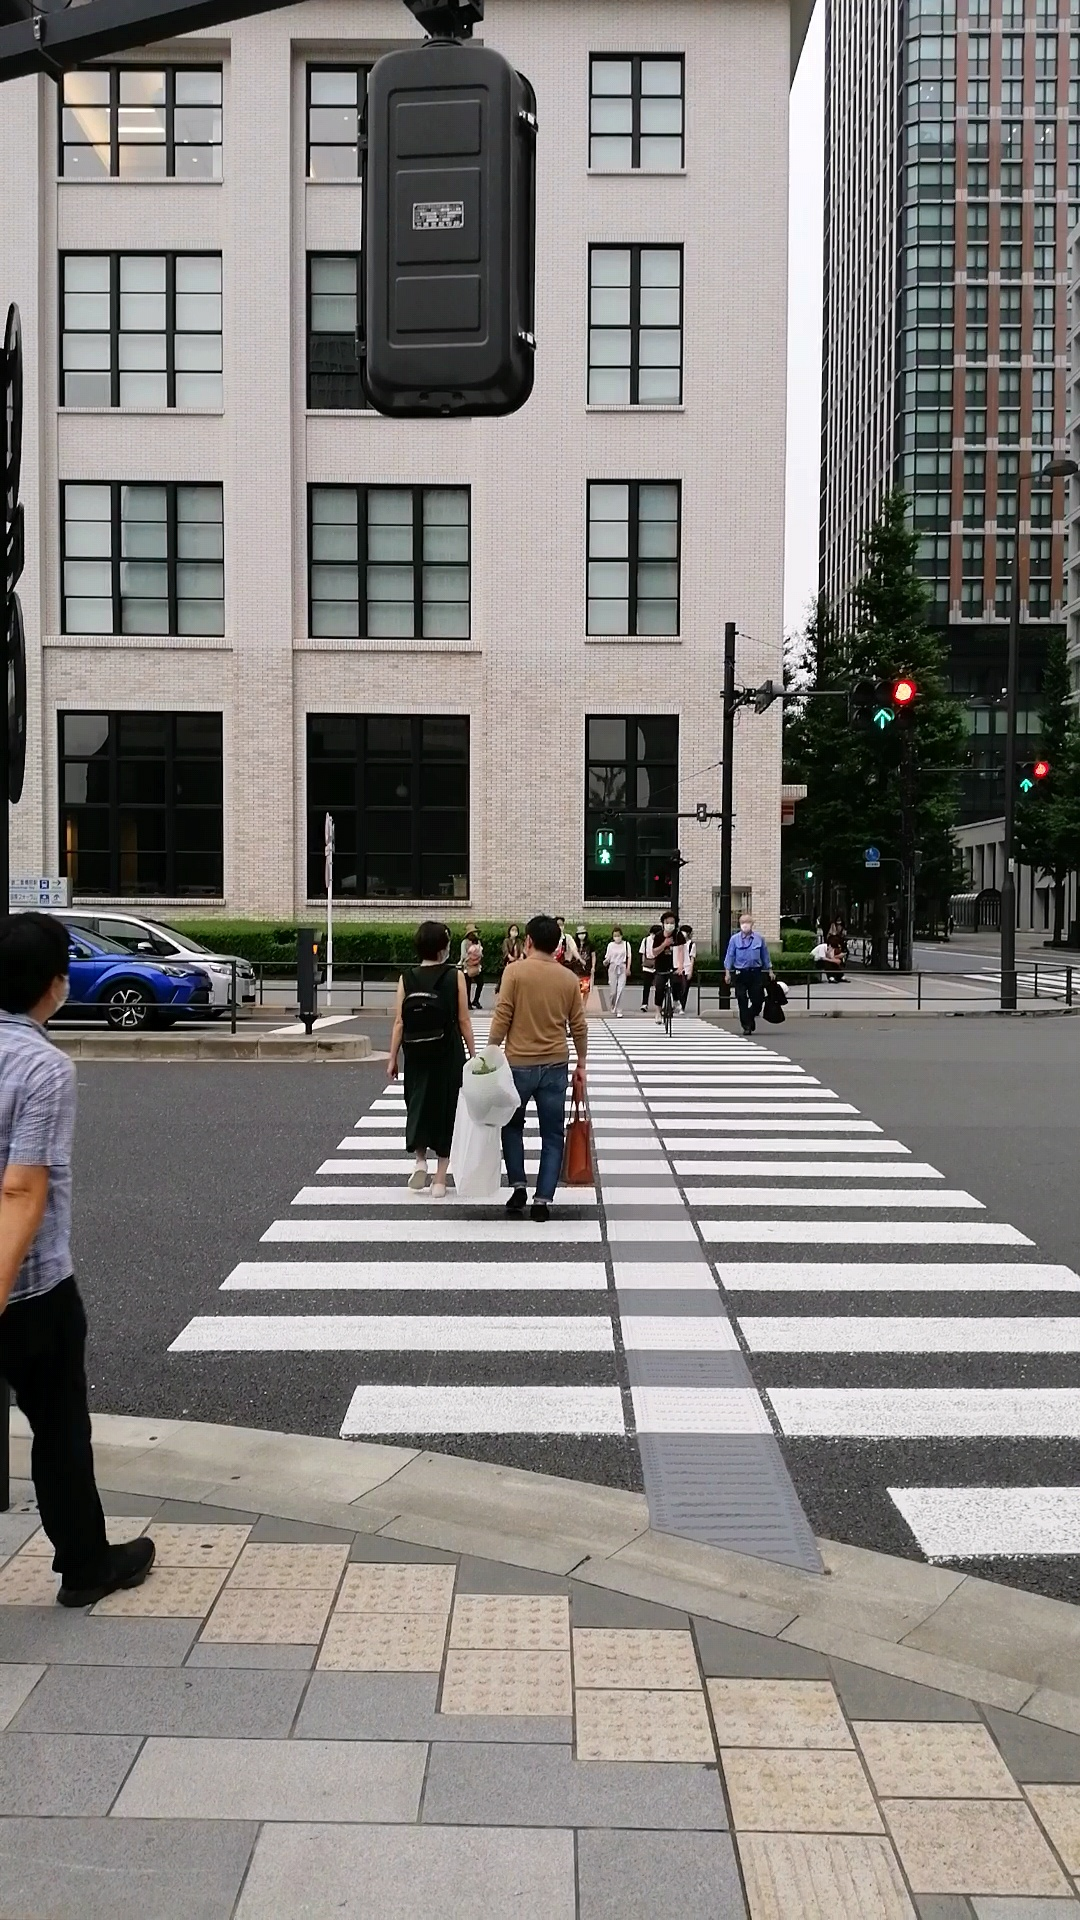green: (595, 825, 615, 868)
